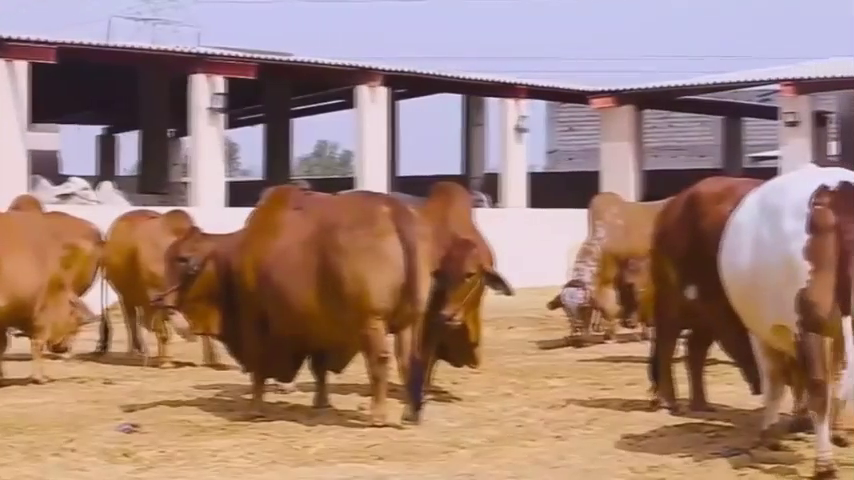bo: (157, 183, 440, 438), (715, 155, 852, 472), (381, 175, 531, 390), (635, 159, 753, 415), (90, 196, 221, 385), (556, 177, 667, 340), (3, 205, 90, 393), (608, 252, 661, 328)
